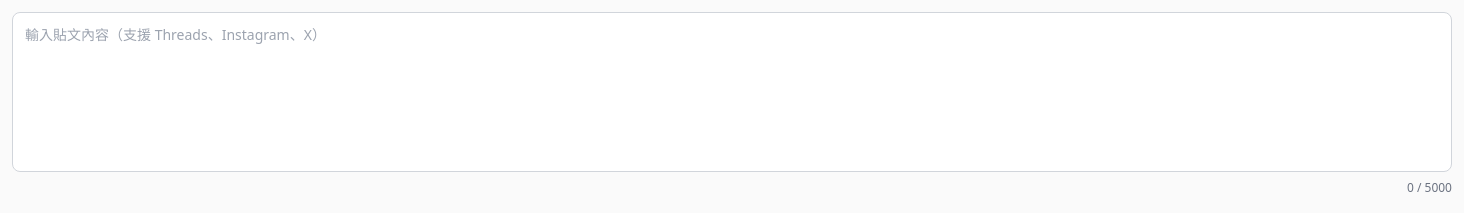
PostEditor › updates character count as user types
Step 1. Type "hello" into the text box → (732,92), box x1=12 y1=12 x2=1452 y2=172
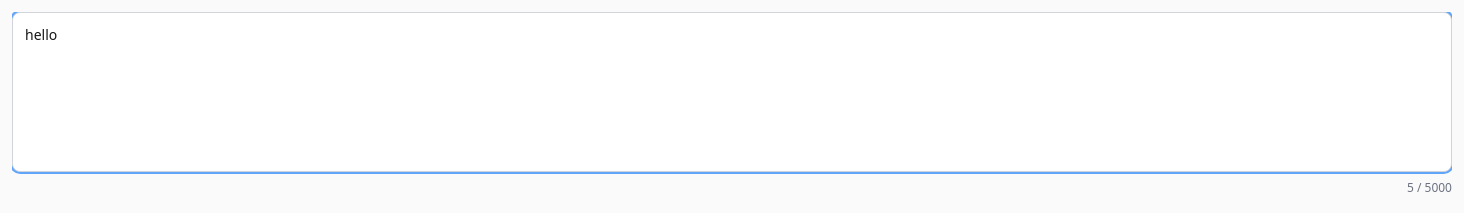
Now the text "5 / 5000" is shown, box x1=1407 y1=180 x2=1452 y2=196
